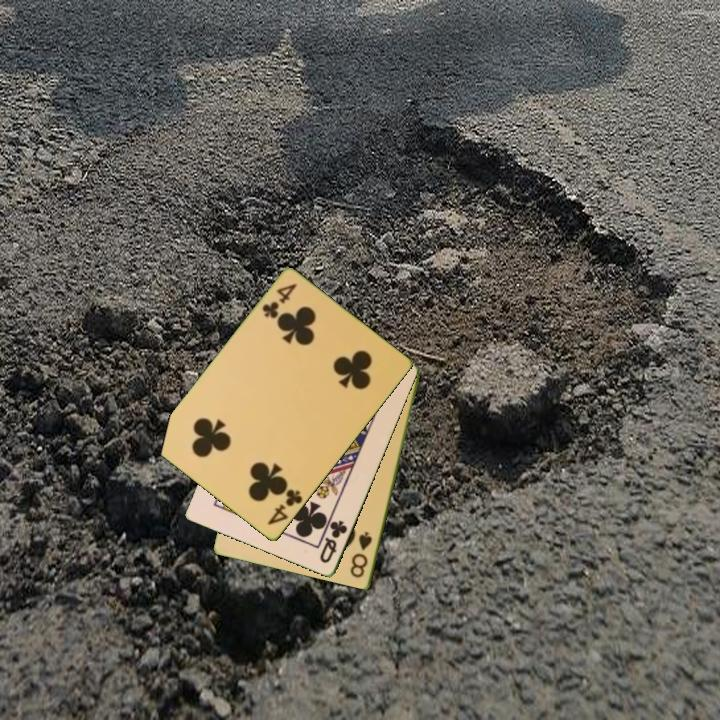4c: (264, 486, 306, 528), (258, 280, 300, 322)
8s: (347, 529, 375, 581)
Qc: (316, 517, 351, 566)
